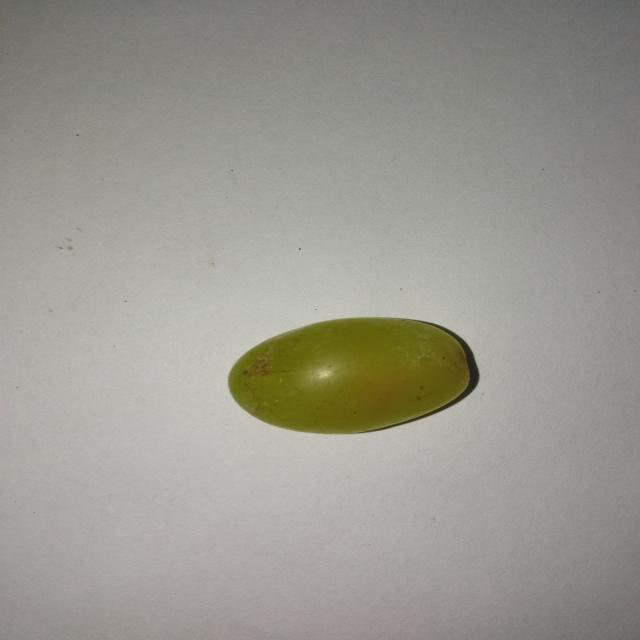fresh_grape: (227, 316, 470, 432)
